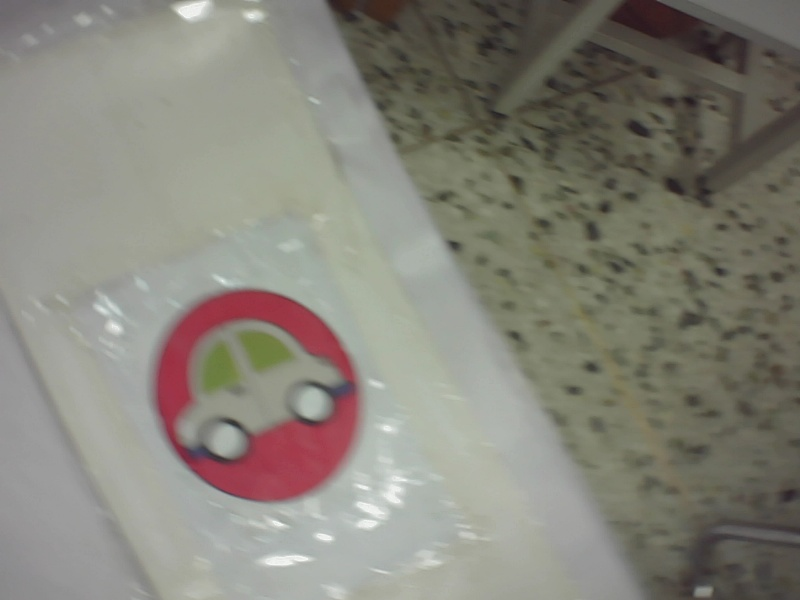areaC: (138, 281, 375, 507)
